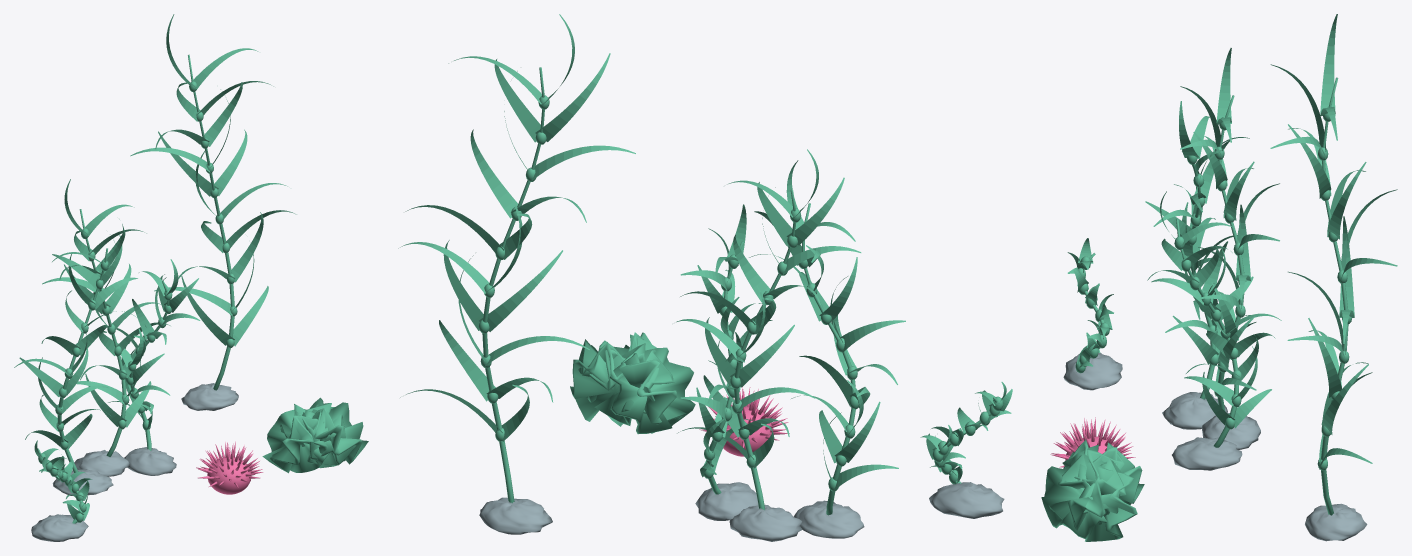
The model's file is kelp_forest.glb.
3 views of the same model, side by side, from view 1: azimuth 30°, elevation 25°; view 2: azimuth 150°, elevation 25°; view 3: azimuth 270°, elevation 25° (orthographic). The views are drawn at different scales.
Visible parts, largest first — view 1: 004-sea-lettuce/4, 004-sea-lettuce/3, 001-giant-kelp/41, 002-sargassum/41, 000-kelp-forest-clump/83, 004-sea-lettuce/0, 003-sea-urchin/0, 004-sea-lettuce/1, 001-giant-kelp/0, 000-kelp-forest-clump/41, 000-kelp-forest-clump/125, 004-sea-lettuce/2 (+11 smaller); view 2: 004-sea-lettuce/3, 002-sargassum/41, 001-giant-kelp/41, 000-kelp-forest-clump/41, 004-sea-lettuce/4, 004-sea-lettuce/5, 000-kelp-forest-clump/125, 000-kelp-forest-clump/83, 001-giant-kelp/0, 004-sea-lettuce/2, 000-kelp-forest-clump/0, 001-giant-kelp/15 (+10 smaller); view 3: 004-sea-lettuce/1, 000-kelp-forest-clump/83, 001-giant-kelp/41, 004-sea-lettuce/0, 004-sea-lettuce/5, 002-sargassum/41, 000-kelp-forest-clump/125, 001-giant-kelp/0, 000-kelp-forest-clump/41, 001-giant-kelp/39, 004-sea-lettuce/3, 004-sea-lettuce/2 (+15 smaller).
Boxes of the visible parts, bbox=[...] form: 004-sea-lettuce/4: bbox=[267, 409, 331, 472]; 004-sea-lettuce/3: bbox=[262, 404, 317, 473]; 001-giant-kelp/41: bbox=[181, 383, 238, 410]; 002-sargassum/41: bbox=[31, 514, 88, 541]; 000-kelp-forest-clump/83: bbox=[124, 447, 176, 475]; 004-sea-lettuce/0: bbox=[302, 397, 363, 465]; 003-sea-urchin/0: bbox=[207, 456, 251, 494]; 004-sea-lettuce/1: bbox=[311, 404, 368, 464]; 001-giant-kelp/0: bbox=[188, 54, 234, 390]; 000-kelp-forest-clump/41: bbox=[74, 450, 129, 476]; 000-kelp-forest-clump/125: bbox=[52, 469, 113, 495]; 004-sea-lettuce/2: bbox=[280, 407, 345, 446]; 004-sea-lettuce/3: bbox=[609, 347, 695, 434]; 002-sargassum/41: bbox=[929, 482, 1004, 518]; 001-giant-kelp/41: bbox=[479, 497, 552, 534]; 000-kelp-forest-clump/41: bbox=[729, 504, 802, 541]; 004-sea-lettuce/4: bbox=[619, 343, 686, 433]; 004-sea-lettuce/5: bbox=[570, 340, 625, 426]; 000-kelp-forest-clump/125: bbox=[793, 500, 864, 538]; 000-kelp-forest-clump/83: bbox=[695, 482, 758, 520]; 001-giant-kelp/0: bbox=[482, 67, 544, 503]; 004-sea-lettuce/2: bbox=[594, 334, 674, 425]; 000-kelp-forest-clump/0: bbox=[734, 189, 795, 510]; 001-giant-kelp/15: bbox=[479, 250, 562, 331]; 004-sea-lettuce/1: bbox=[1041, 452, 1119, 539]; 000-kelp-forest-clump/83: bbox=[1172, 437, 1242, 470]; 001-giant-kelp/41: bbox=[1305, 503, 1367, 541]; 004-sea-lettuce/0: bbox=[1048, 458, 1126, 530]; 004-sea-lettuce/5: bbox=[1064, 461, 1137, 541]; 002-sargassum/41: bbox=[1063, 353, 1122, 390]; 000-kelp-forest-clump/125: bbox=[1162, 392, 1227, 429]; 001-giant-kelp/0: bbox=[1321, 77, 1348, 515]; 000-kelp-forest-clump/41: bbox=[1201, 412, 1260, 449]; 001-giant-kelp/39: bbox=[1320, 14, 1337, 115]; 004-sea-lettuce/3: bbox=[1063, 439, 1144, 505]; 004-sea-lettuce/2: bbox=[1058, 444, 1129, 524].
Bounding box in the file's own units: 4.3 × 4.52 × 2.96.
